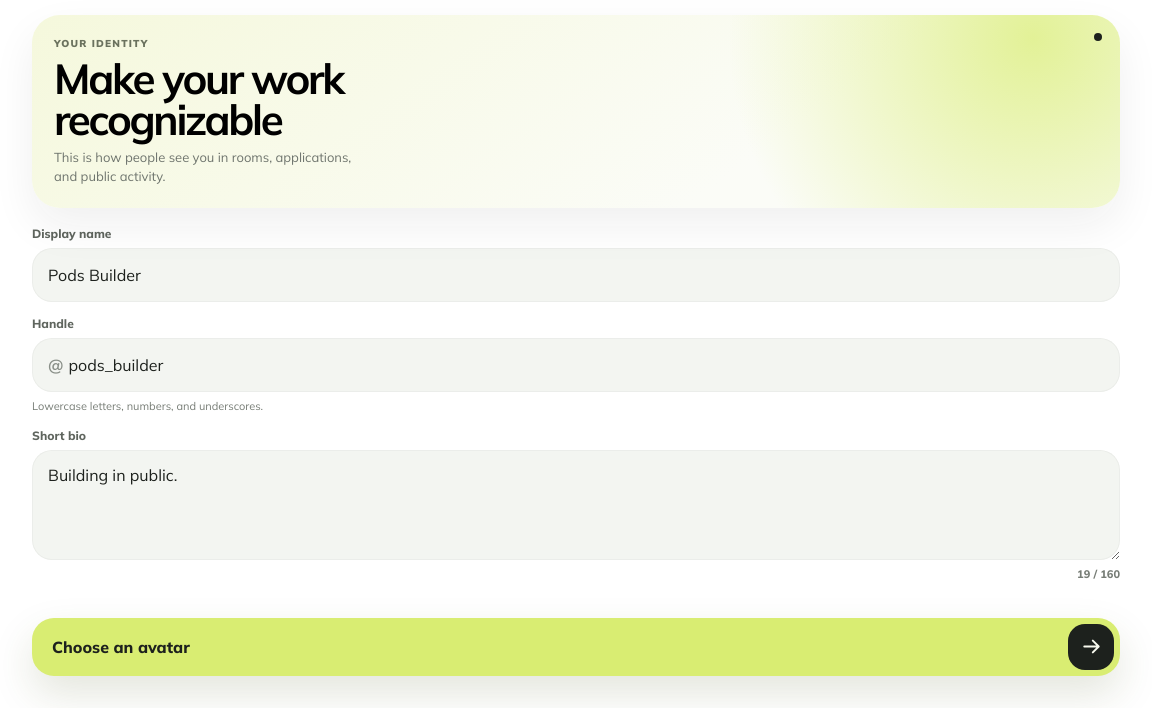
ProfileOnboardingForm › uses a save action when editing an existing profile
This screenshot has width=1152, height=708.
(page scrolled)
Click the button "Choose an avatar". click: (121, 647)
box: [32, 618, 1120, 676]
(page scrolled)
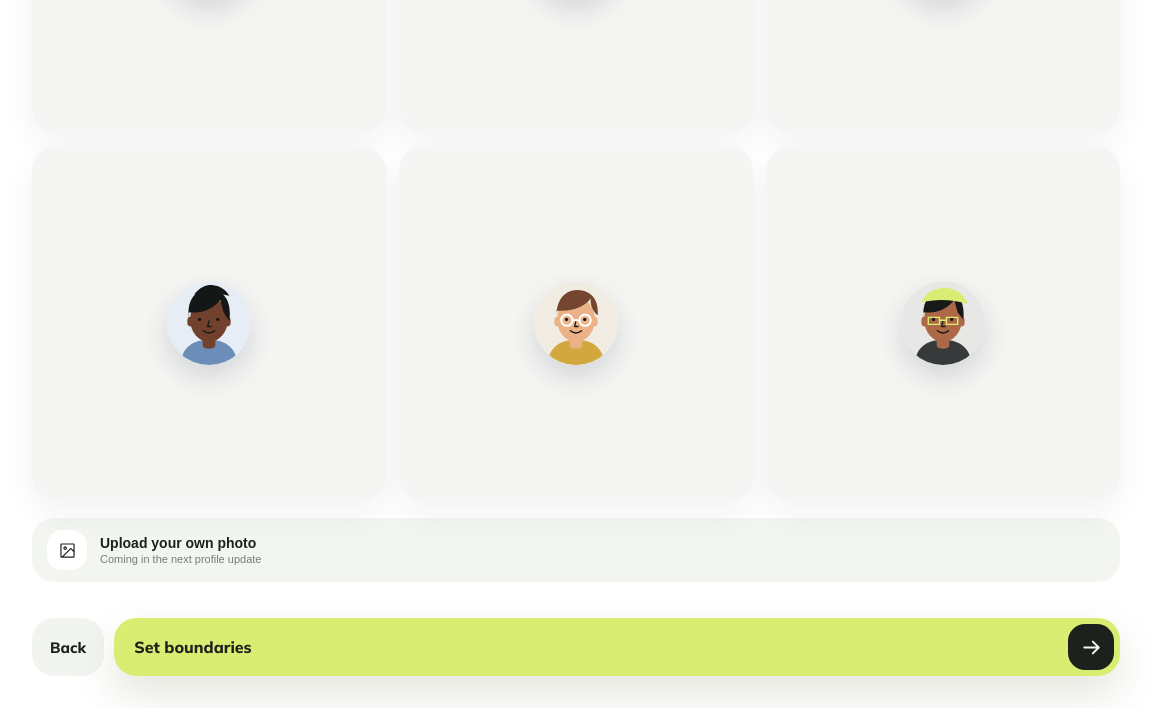
Click the button "Set boundaries". click: (193, 647)
box: [114, 618, 1120, 676]
(page scrolled)
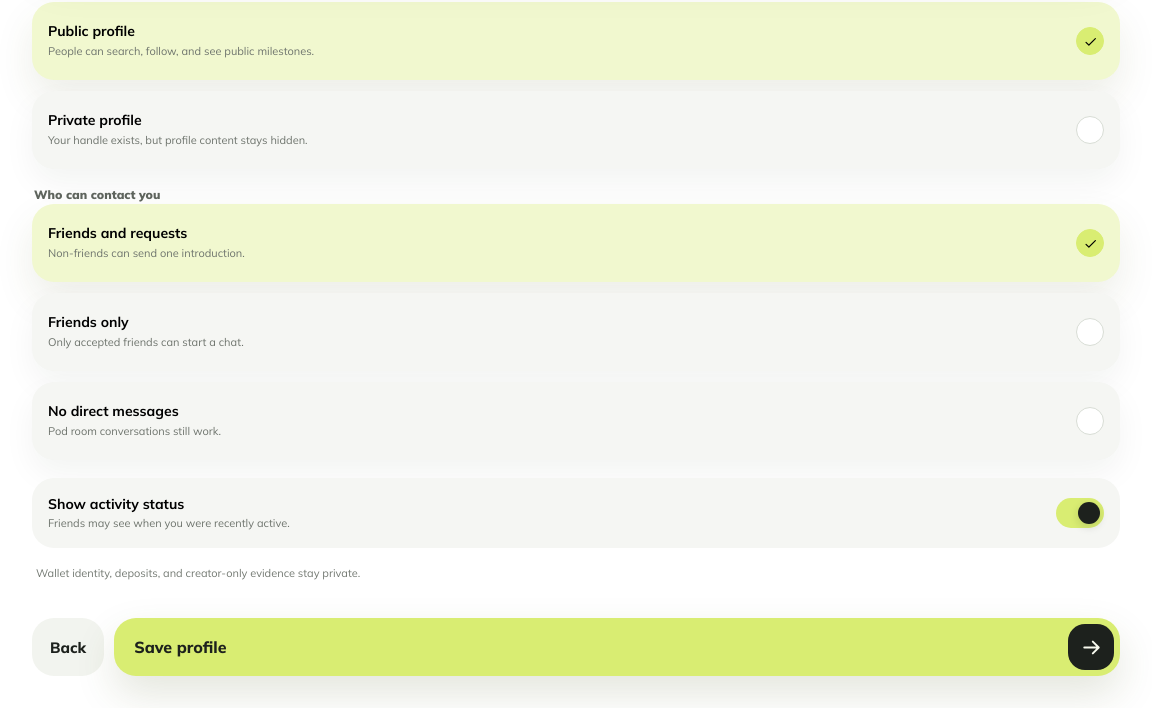
Check: the button "Save profile" is shown, box [114, 618, 1120, 676]
